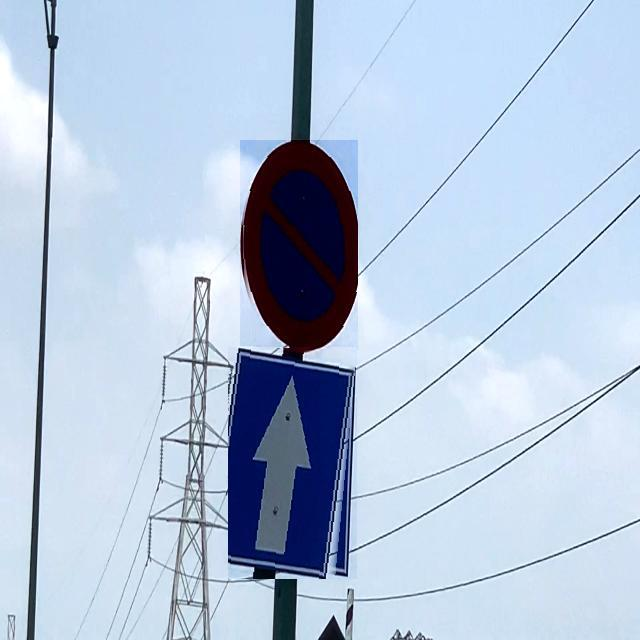P-131a: (240, 140, 358, 350)
R-407a: (228, 347, 357, 579)
